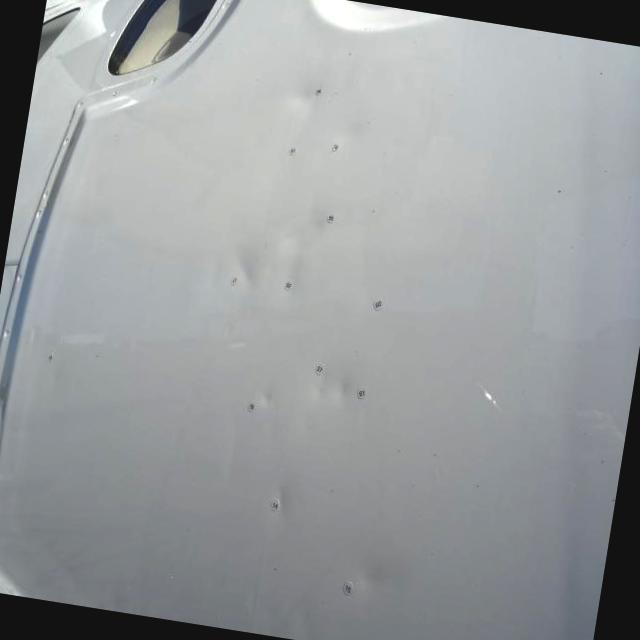dent: (332, 546, 420, 616), (215, 235, 273, 318), (276, 191, 346, 258), (298, 358, 376, 418), (262, 246, 314, 315), (252, 472, 304, 527), (279, 70, 330, 124), (271, 111, 317, 166), (327, 106, 372, 158), (240, 374, 286, 422), (44, 346, 70, 391)
